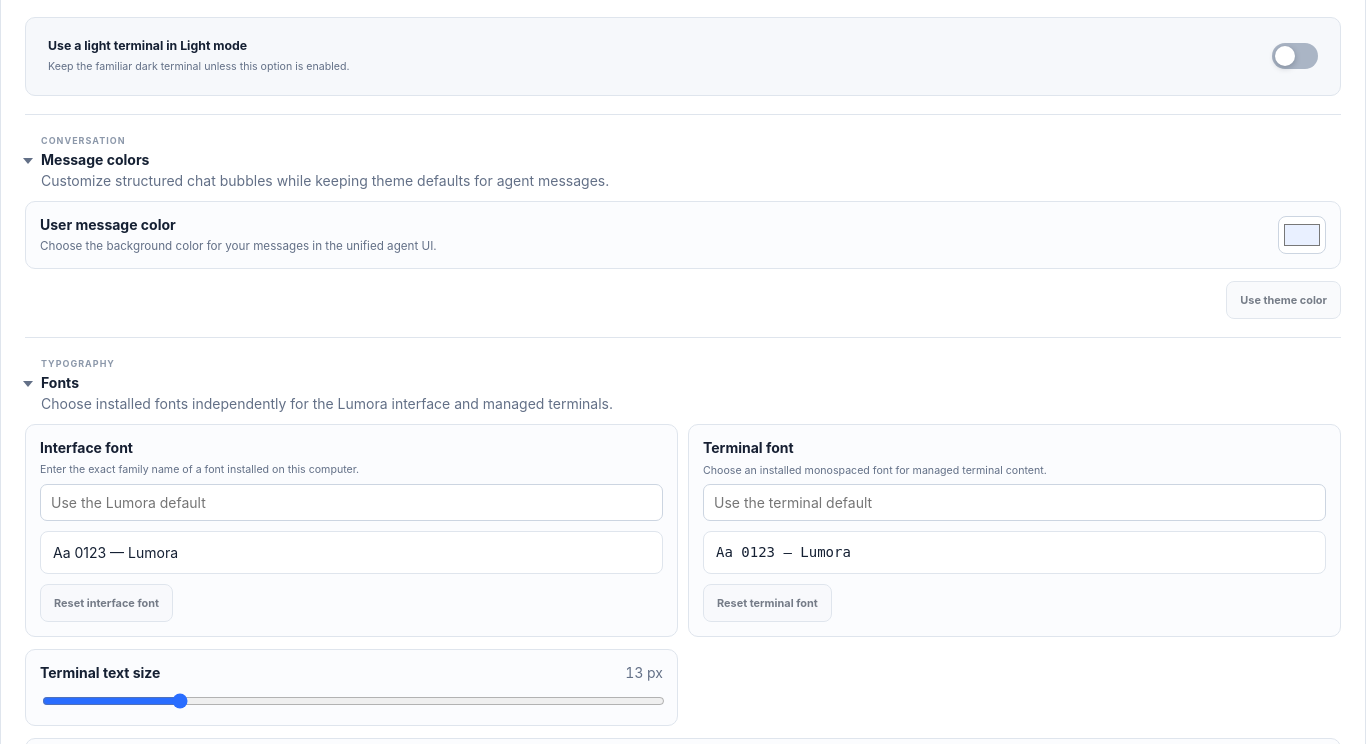
Test: AppearanceSettingsPanel › collapses a section to its heading and remembers the choice
(page scrolled)
Expected: the slider named "Terminal text size" is shown, [42, 693, 665, 709]
Click the button "Fonts". click: x=78, y=364
box: [25, 356, 1341, 412]
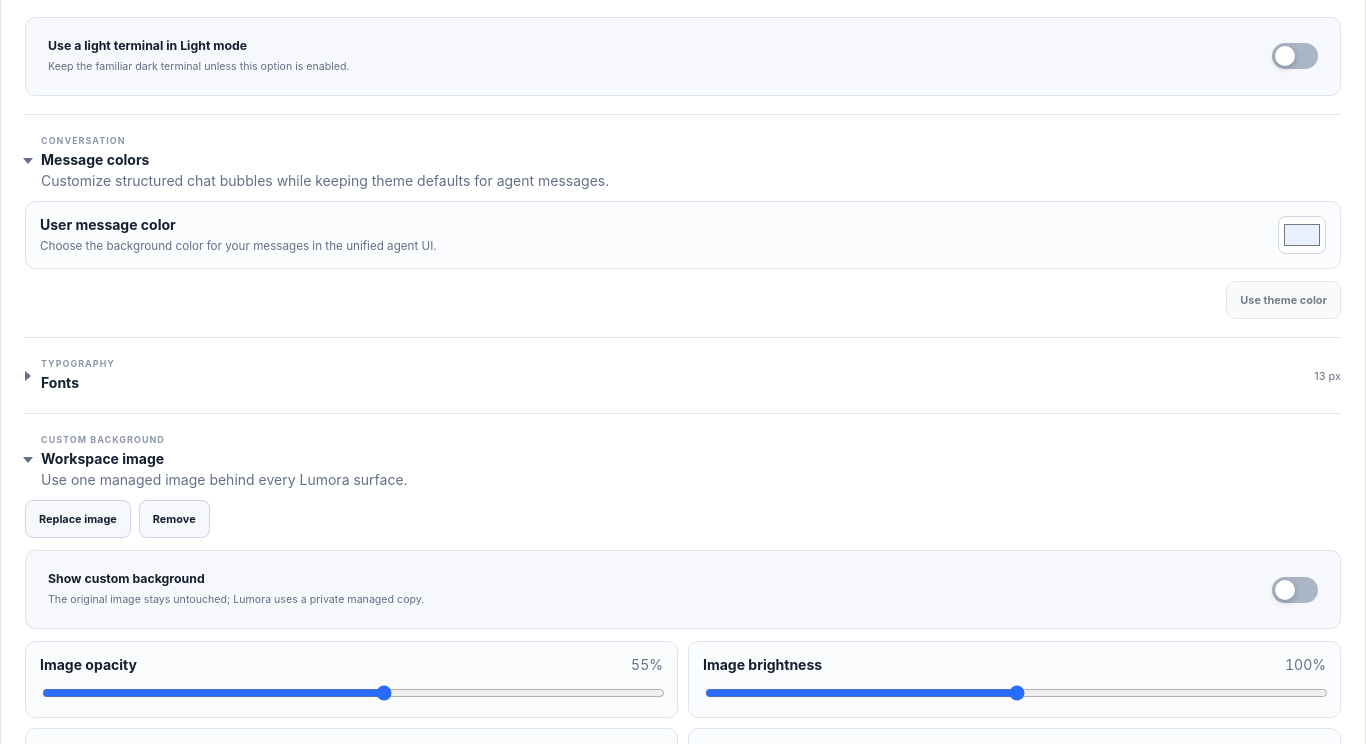
Expected: the button "Typography Fonts 13 px" is shown, [25, 356, 1341, 396]
Now the text "Terminal text size" is gone
